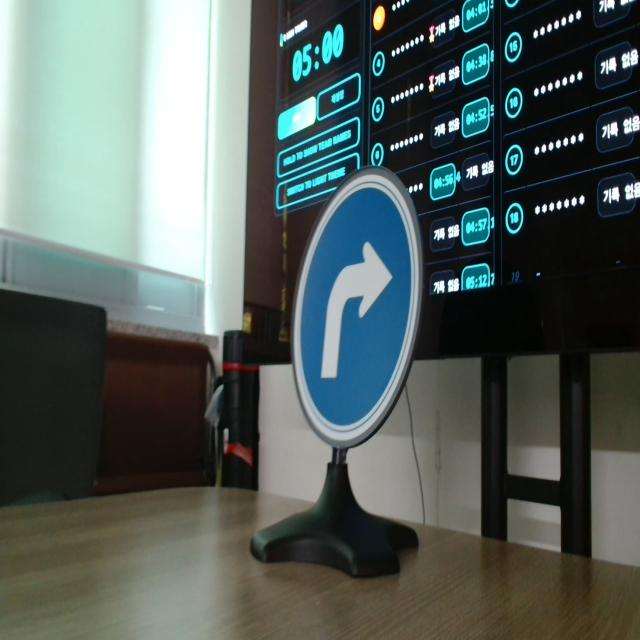right_dierection: (286, 164, 442, 464)
